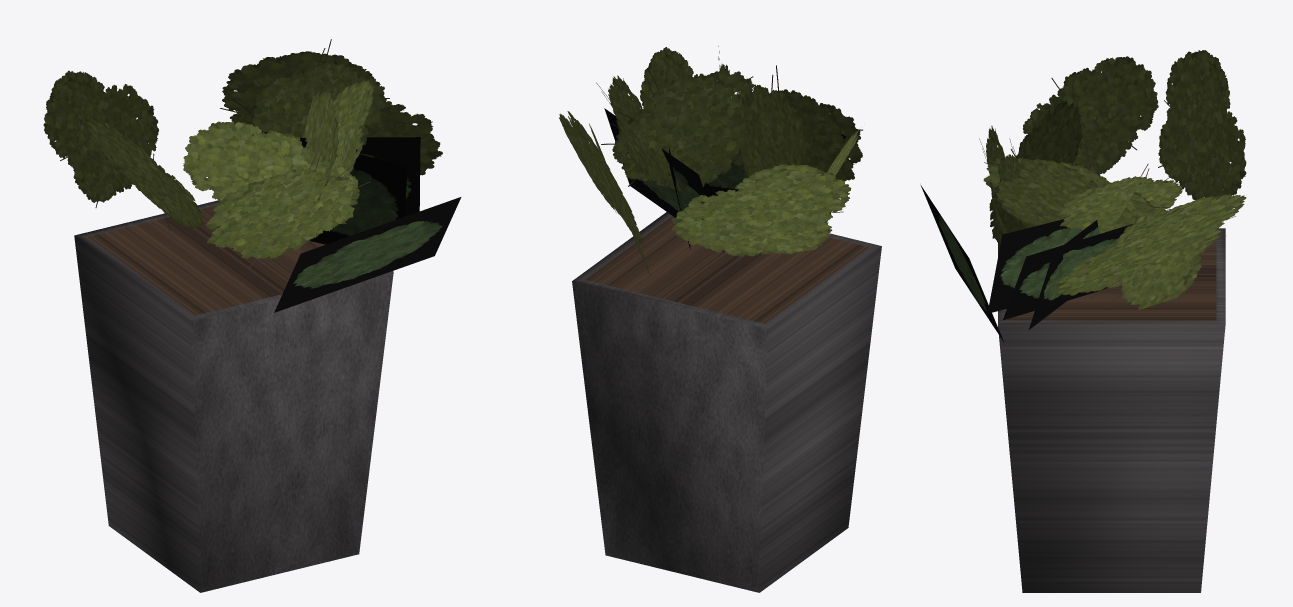
The model's file is SM_Morin_FiorieraB_LOD2.fbx.
3 views of the same model, side by side, from view 1: azimuth 30°, elevation 25°; view 2: azimuth 150°, elevation 25°; view 3: azimuth 270°, elevation 25° (orthographic). The views are drawn at different scales.
Parts seen in each view (by area): view 1: SM_Morin_FiorieraB_LOD2; view 2: SM_Morin_FiorieraB_LOD2; view 3: SM_Morin_FiorieraB_LOD2.
Boxes of the visible parts, x1,y1,x2,y2 form: SM_Morin_FiorieraB_LOD2: [43, 39, 461, 592]; SM_Morin_FiorieraB_LOD2: [559, 46, 881, 592]; SM_Morin_FiorieraB_LOD2: [920, 50, 1246, 592].
Bounding box in the file's own units: 155 × 117 × 162.
Materials: 3 (3 with a texture image).
